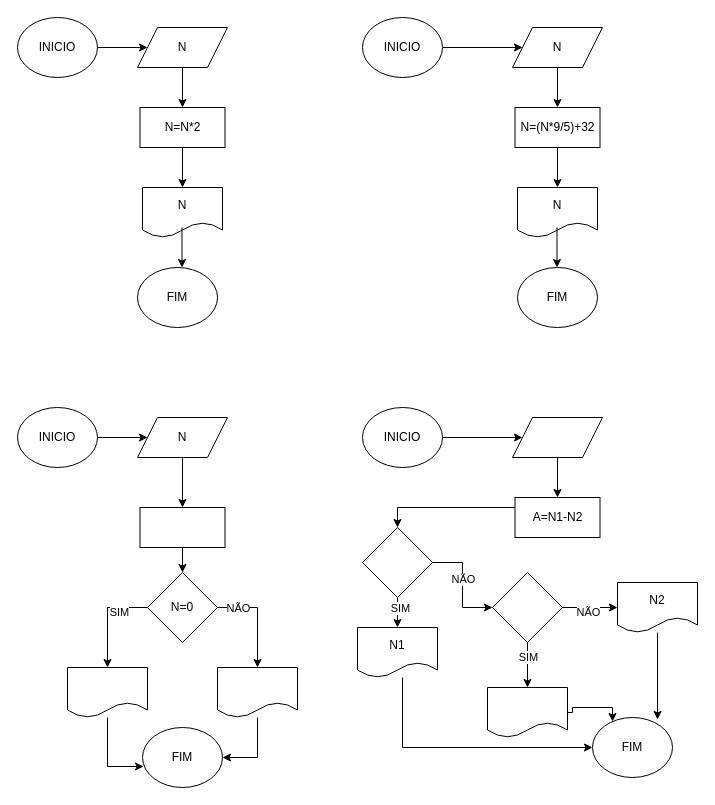
This 715x805 diagram has some shape labels left out. The centre of each missing label's shape, as x and y in pixels:
A=0: the point at 527,607
A>0: the point at 397,562
N1, N2: the point at 557,437
N=N%2: the point at 182,527
NUMERO IMPAR: the point at 257,692
NUMERO PAR: the point at 107,692
NUMEROS IGUAIS: the point at 527,712
